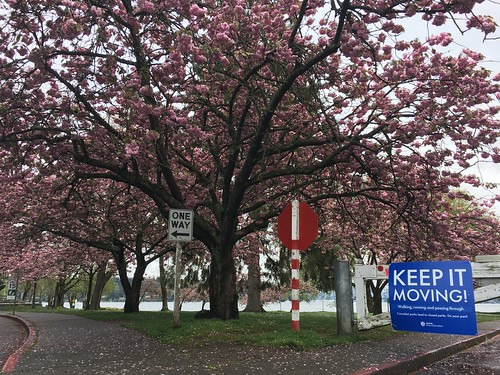sidewalk: (3, 305, 160, 375)
sign: (385, 254, 478, 339), (162, 204, 198, 246)
vegetation: (1, 1, 481, 265)
